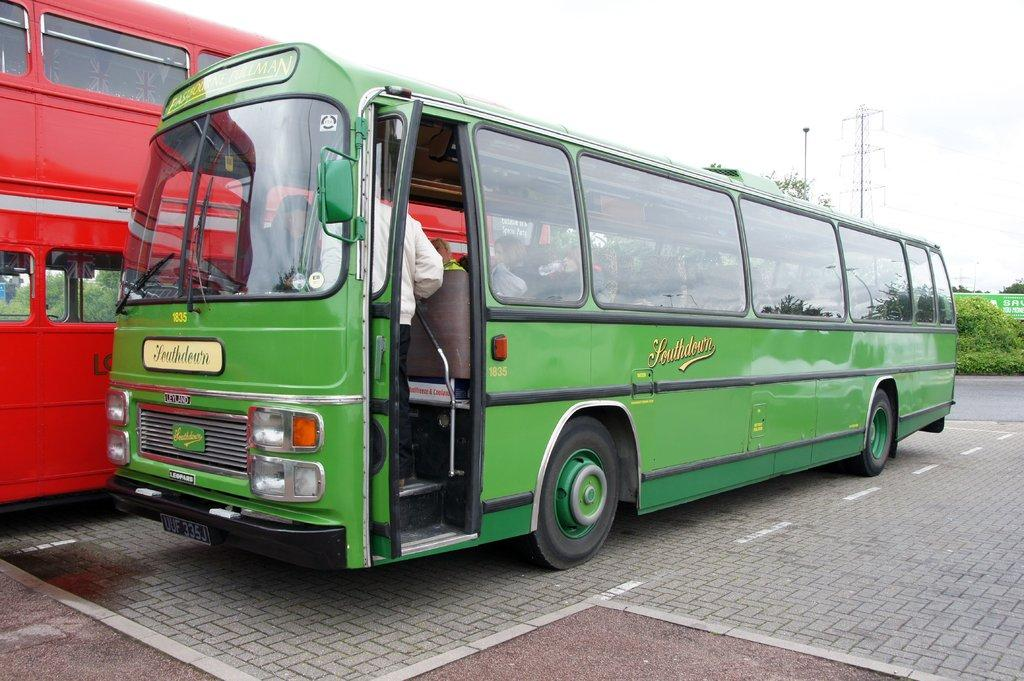Bus: (99, 42, 959, 576), (0, 0, 282, 504)
